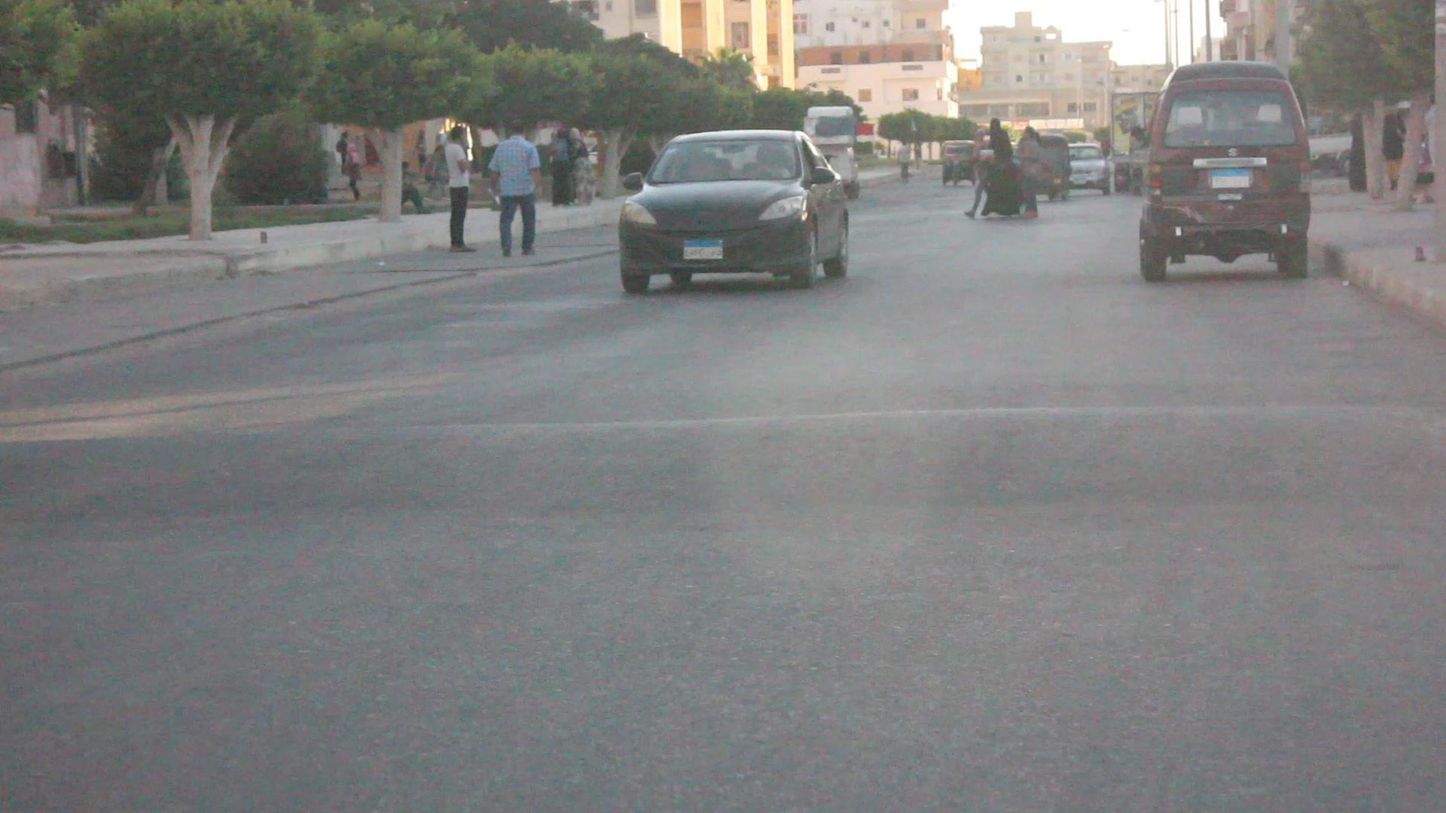Bump: (0, 399, 1446, 533)
